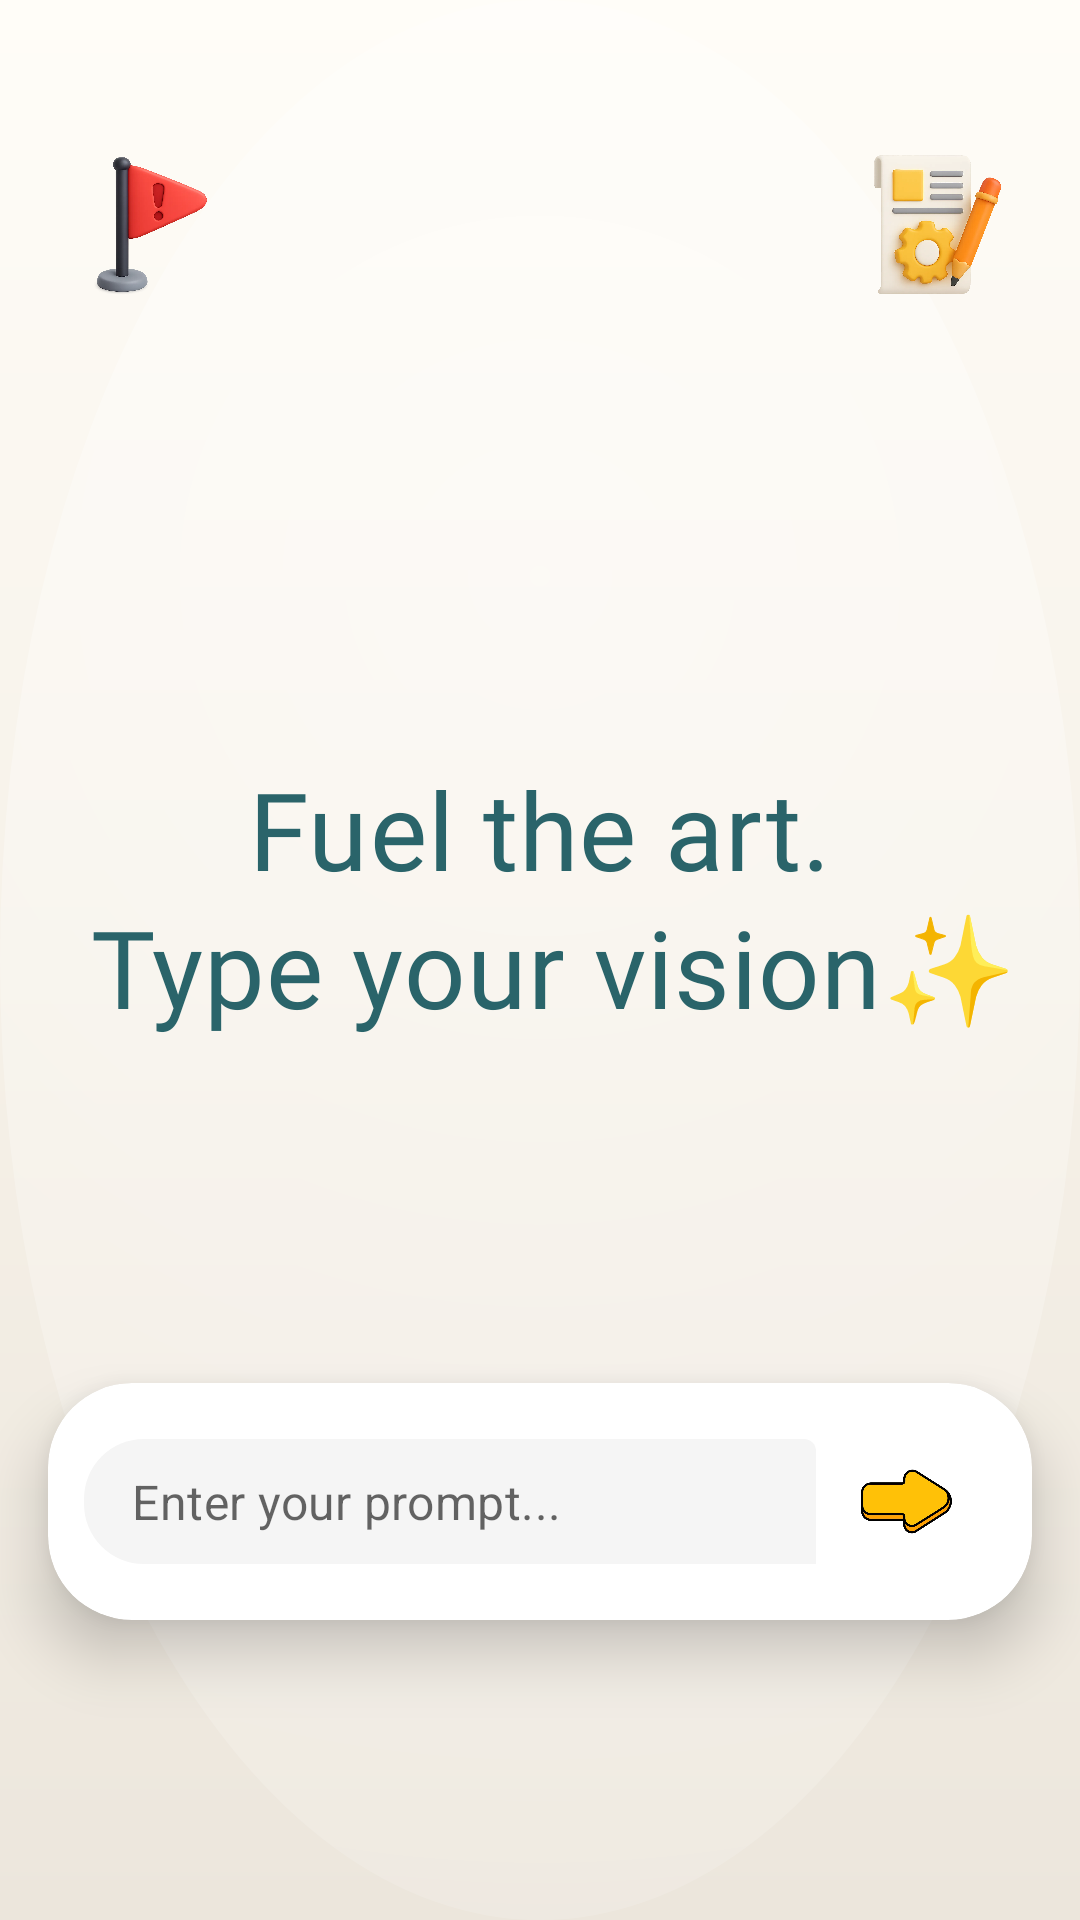

Screen size 1080×1920. Icon name, then its box in pixels as Rect(x1, y1, x2, y2):
Report content: Rect(97, 157, 207, 293)
Settings: Rect(874, 155, 1001, 294)
